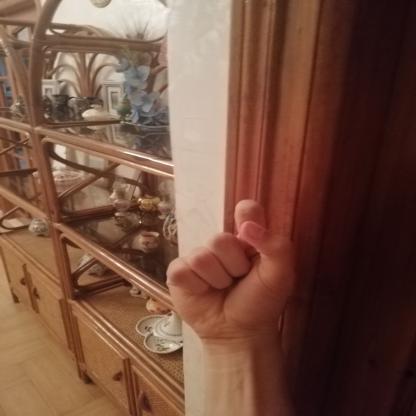FAA: (152, 189, 314, 350)
